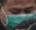with_mask: (1, 1, 36, 30)
